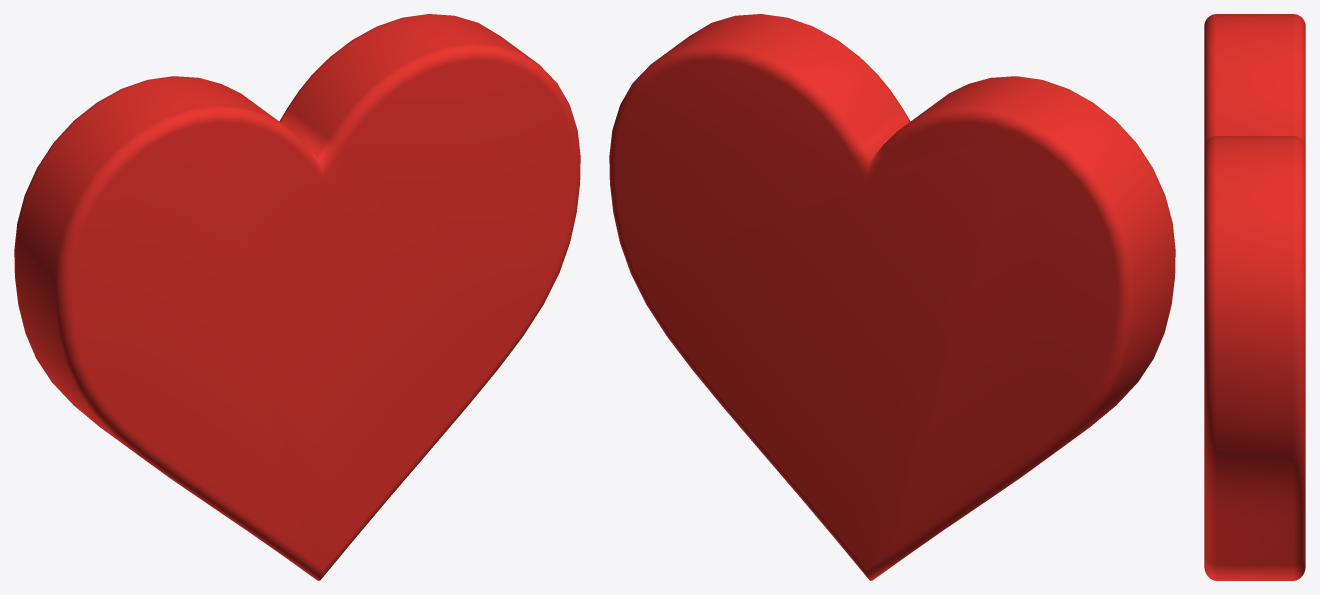
Rendered from Miscellaneous_Heart_01.fbx.
3 renders of one model, left to right at view 1: azimuth 30°, elevation 25°; view 2: azimuth 150°, elevation 25°; view 3: azimuth 270°, elevation 25°, orthographic. The views are drawn at different scales.
Visible parts, largest first — view 1: Heart icon; view 2: Heart icon; view 3: Heart icon.
Boxes of the visible parts, x1,y1,x2,y2 form: Heart icon: (14, 14, 580, 580); Heart icon: (609, 14, 1175, 580); Heart icon: (1204, 14, 1305, 580).
Size of the model in its own units: 4.45 by 4.07 by 0.762.
